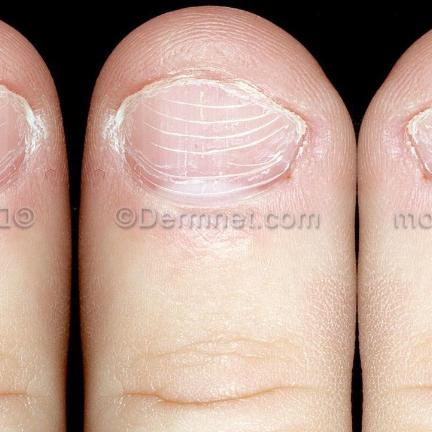Nail: (113, 79, 307, 207), (0, 85, 35, 188), (406, 109, 432, 182)
